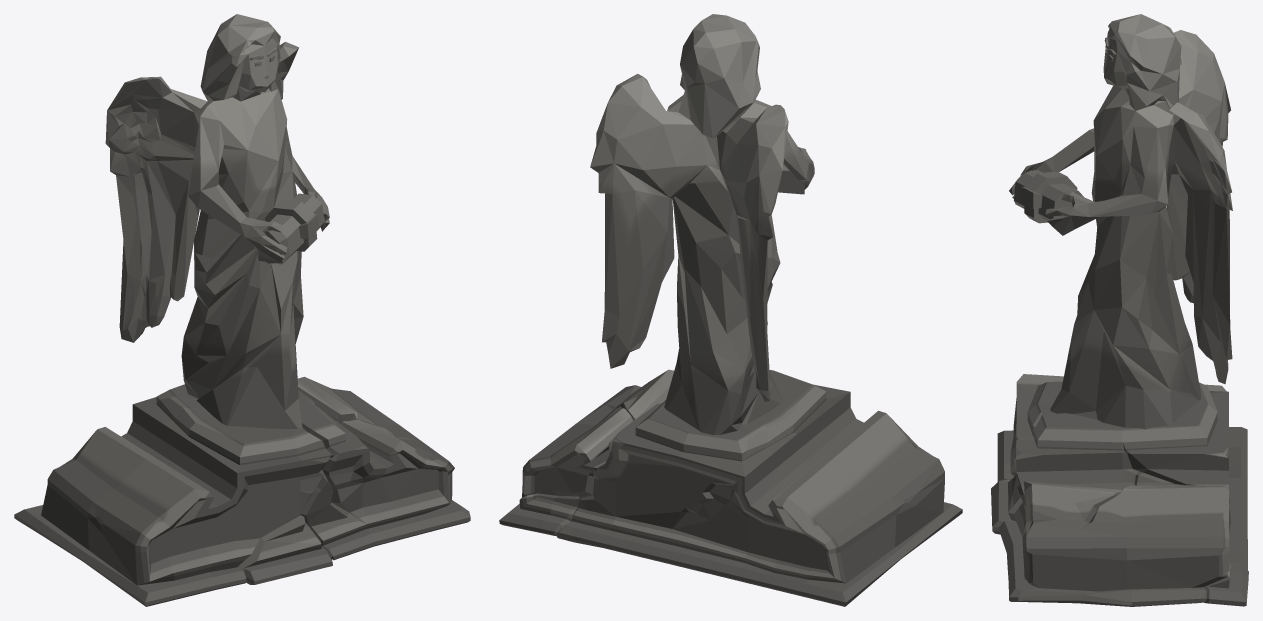
Rendered from crypt_statue.gltf.
The picture shows the model from 3 angles, left to right: view 1: azimuth 30°, elevation 25°; view 2: azimuth 150°, elevation 25°; view 3: azimuth 270°, elevation 25°; orthographic projection.
Visible parts, largest first — view 1: crypt_statue; view 2: crypt_statue; view 3: crypt_statue.
Boxes of the visible parts, <box> form: crypt_statue: <box>14,14,470,606</box>; crypt_statue: <box>499,14,962,606</box>; crypt_statue: <box>991,14,1248,606</box>.
Bounding box in the file's own units: 1.78 × 2.44 × 1.13.
1 material, 1 textured.
